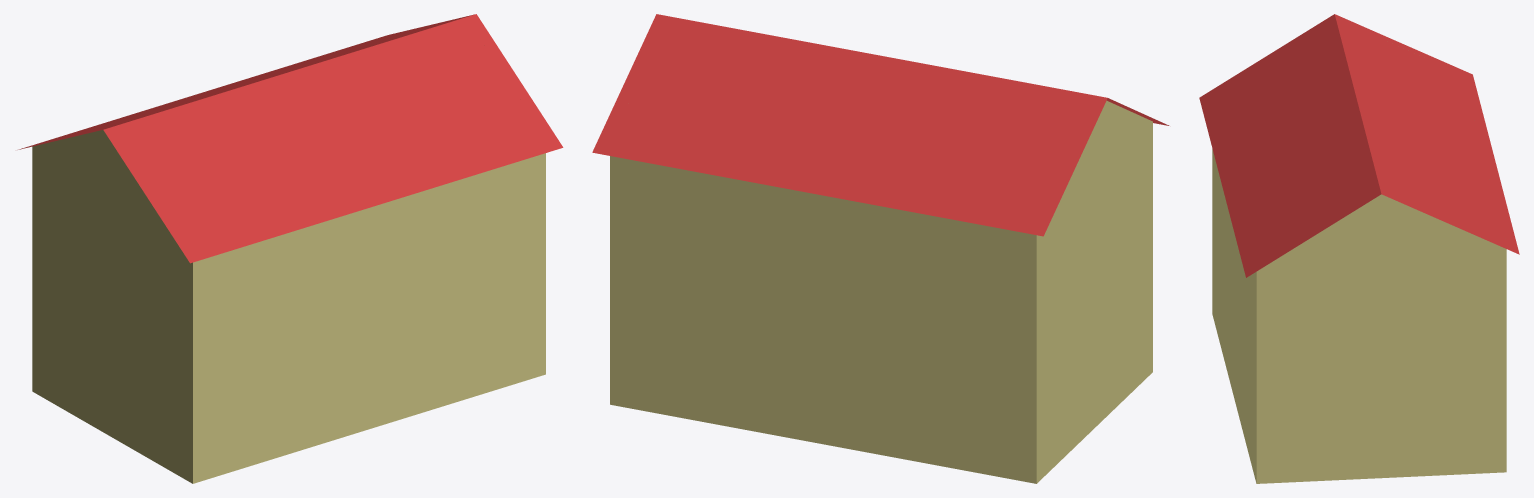
The picture shows the model from 3 angles, left to right: view 1: azimuth 30°, elevation 25°; view 2: azimuth 150°, elevation 25°; view 3: azimuth 270°, elevation 25°; orthographic projection. The views are drawn at different scales.
Size of the model in its own units: 19.5 by 13.68 by 13.61.
